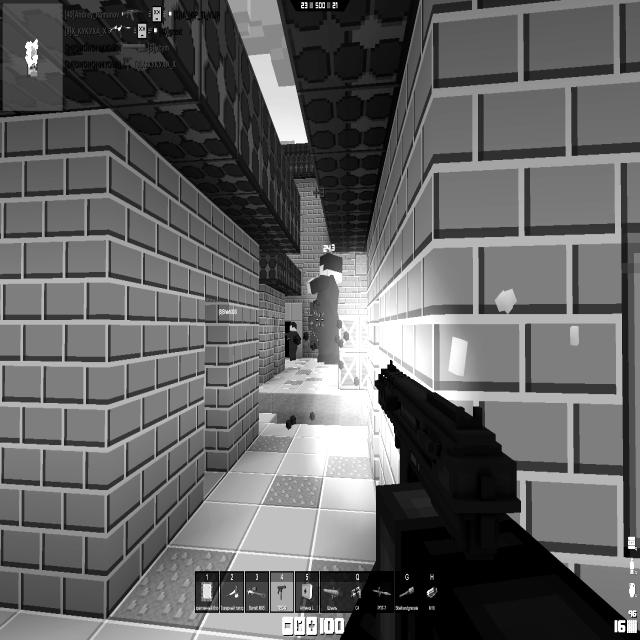Head: (320, 252, 342, 284), (289, 321, 297, 330)
Player: (305, 253, 344, 364), (284, 320, 300, 360)
